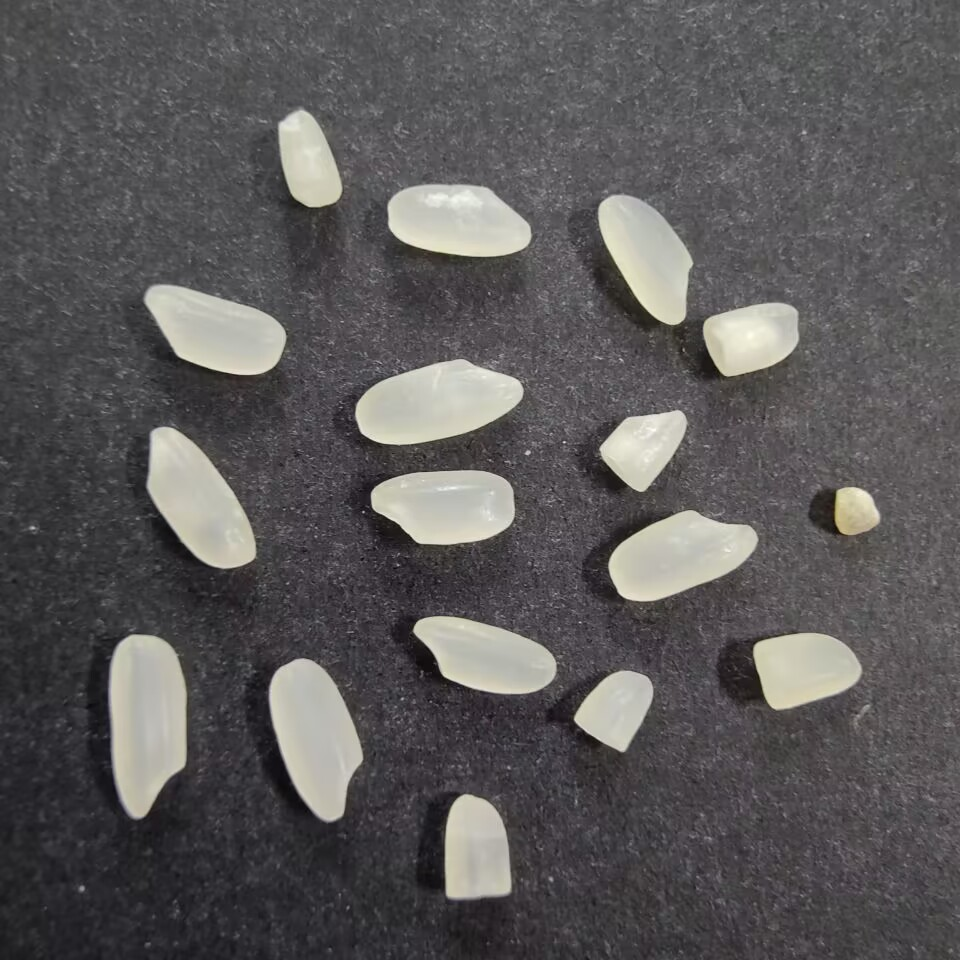broken: (752, 628, 866, 715), (699, 300, 805, 383), (440, 791, 514, 906), (272, 106, 348, 214), (596, 407, 688, 495), (571, 670, 661, 755), (830, 483, 885, 541)
rice: (265, 656, 365, 828), (143, 424, 259, 572), (350, 354, 527, 449), (104, 630, 189, 826), (606, 506, 763, 604), (137, 281, 289, 380), (593, 193, 695, 330), (378, 181, 536, 261), (369, 465, 519, 548), (411, 614, 560, 697)
